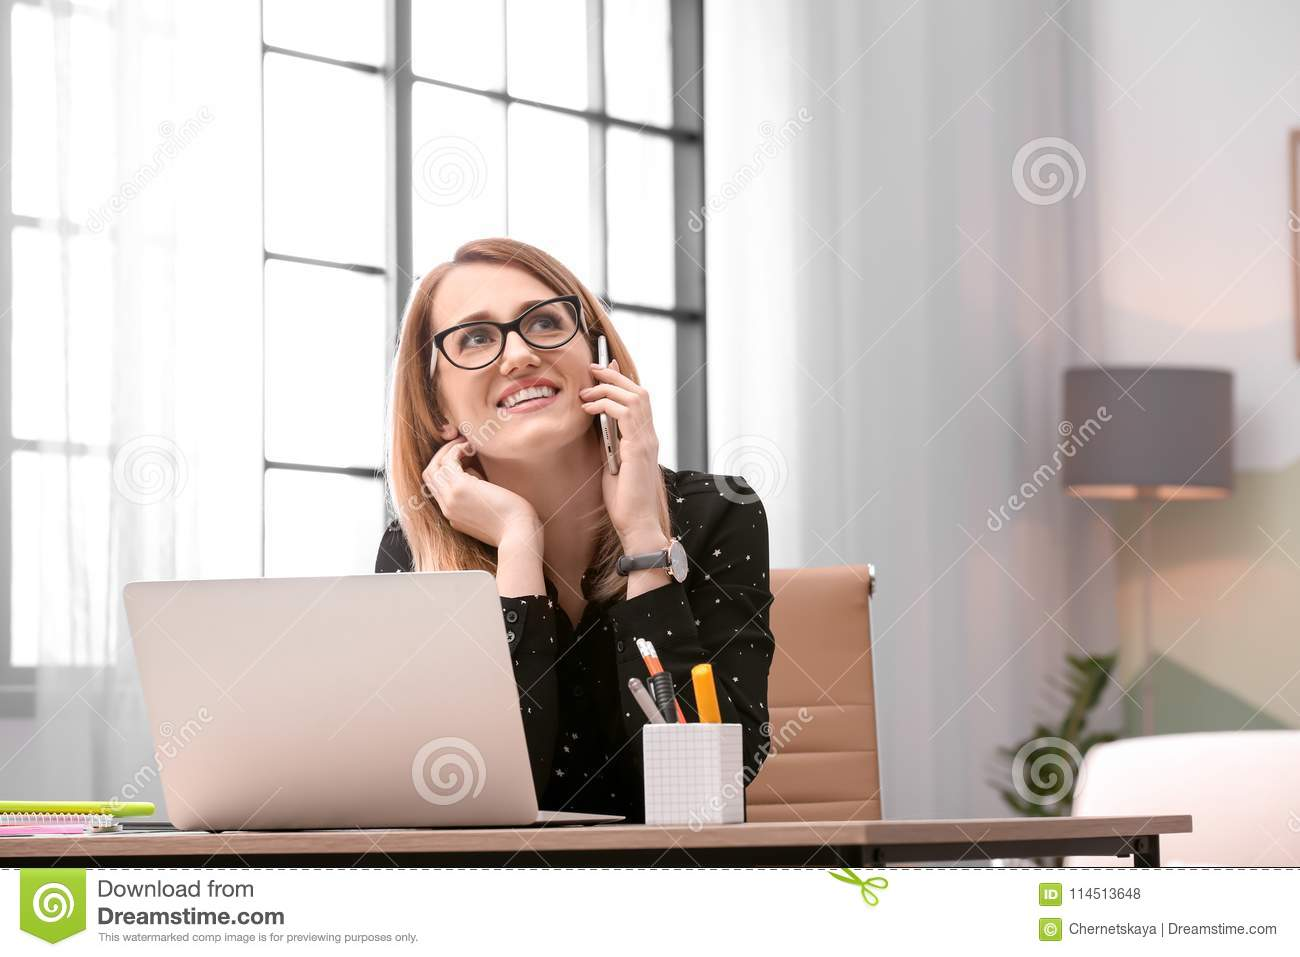phone: (587, 326, 627, 485)
talk: (442, 296, 665, 543)
